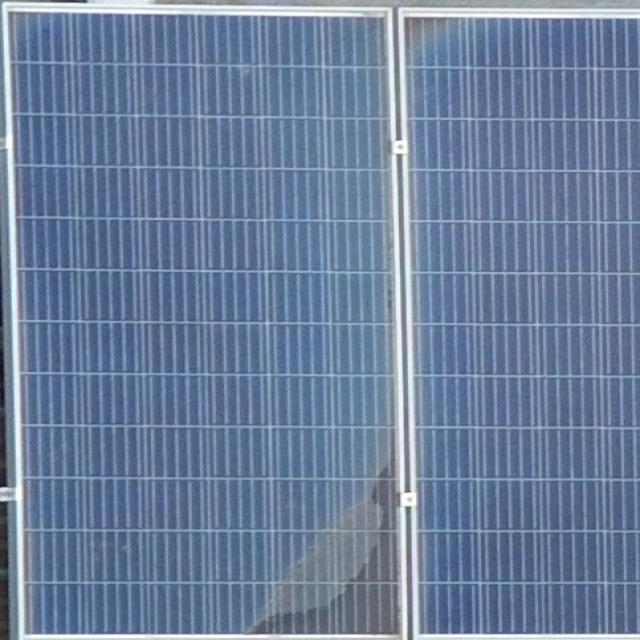Dust: (228, 467, 406, 636), (374, 18, 473, 112)
